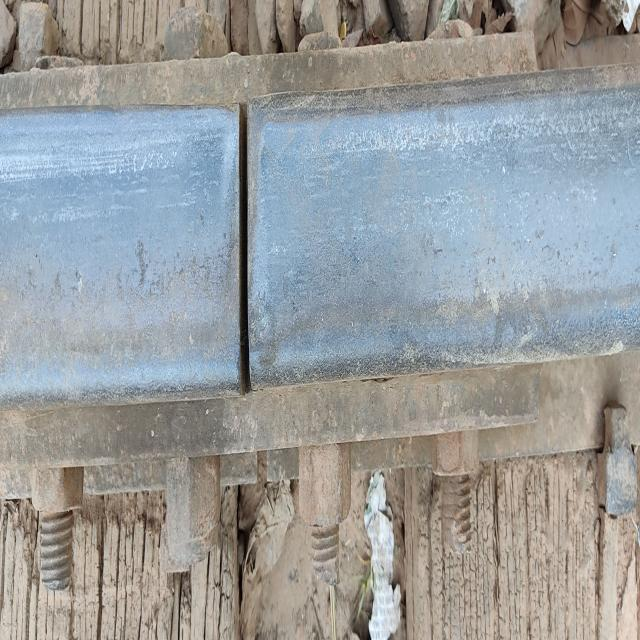Good Joint: (0, 350, 640, 590)
